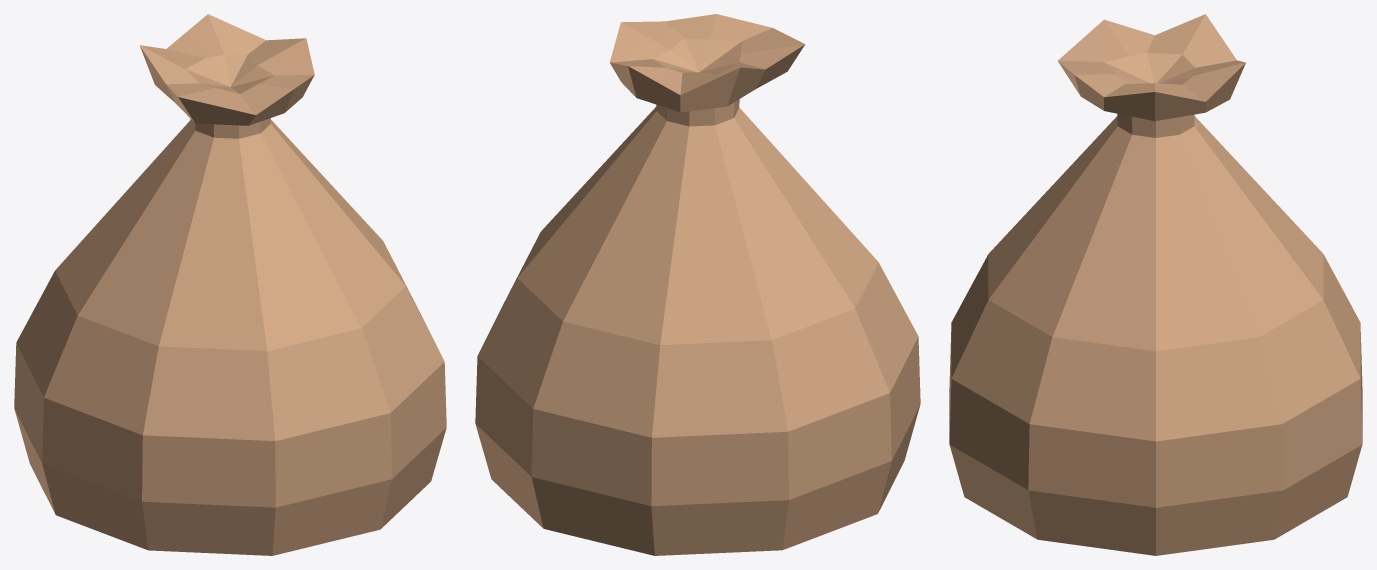
Rendered from ClosedSack.fbx.
3 views of the same model, side by side, from view 1: azimuth 30°, elevation 25°; view 2: azimuth 150°, elevation 25°; view 3: azimuth 270°, elevation 25° (orthographic). The views are drawn at different scales.
Visible parts, largest first — view 1: ClosedSack; view 2: ClosedSack; view 3: ClosedSack.
Part boxes in pixels (bbox=[...]): ClosedSack: bbox=[14, 14, 446, 555]; ClosedSack: bbox=[475, 14, 920, 555]; ClosedSack: bbox=[949, 14, 1362, 555].
Size of the model in its own units: 1.08 by 1.23 by 1.02.
